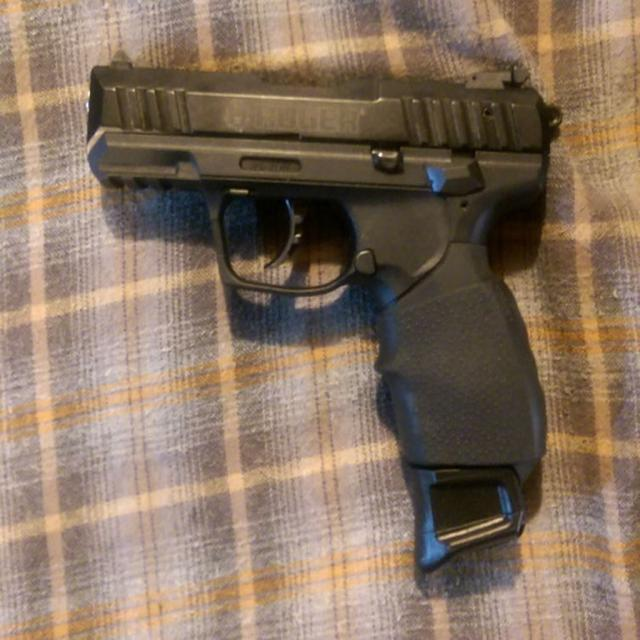Gun: (88, 64, 560, 568)
